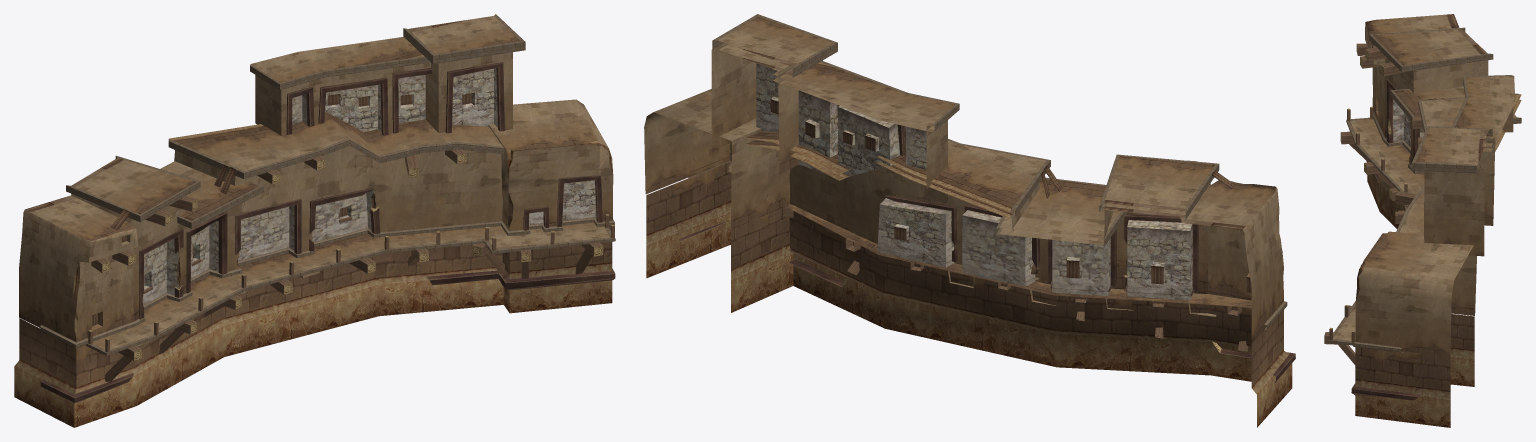
The model's file is environment_Building_shamofeiqijianzhu_02_a.FBX.
3 views of the same model, side by side, from view 1: azimuth 30°, elevation 25°; view 2: azimuth 150°, elevation 25°; view 3: azimuth 270°, elevation 25° (orthographic). The views are drawn at different scales.
Visible parts, largest first — view 1: environment_Building_shamofeiqijianzhu_02_a, environment_Building_shamofeiqijianzhu_02_b; view 2: environment_Building_shamofeiqijianzhu_02_a, environment_Building_shamofeiqijianzhu_02_b; view 3: environment_Building_shamofeiqijianzhu_02_a, environment_Building_shamofeiqijianzhu_02_b.
Boxes of the visible parts, x1,y1,x2,y2 form: environment_Building_shamofeiqijianzhu_02_a: (14,14,615,427); environment_Building_shamofeiqijianzhu_02_b: (142,68,596,305); environment_Building_shamofeiqijianzhu_02_a: (644,14,1295,427); environment_Building_shamofeiqijianzhu_02_b: (756,63,1192,300); environment_Building_shamofeiqijianzhu_02_a: (1324,14,1521,427); environment_Building_shamofeiqijianzhu_02_b: (1393,99,1424,147).
Size of the model in its own units: 2677 by 1124 by 881.
